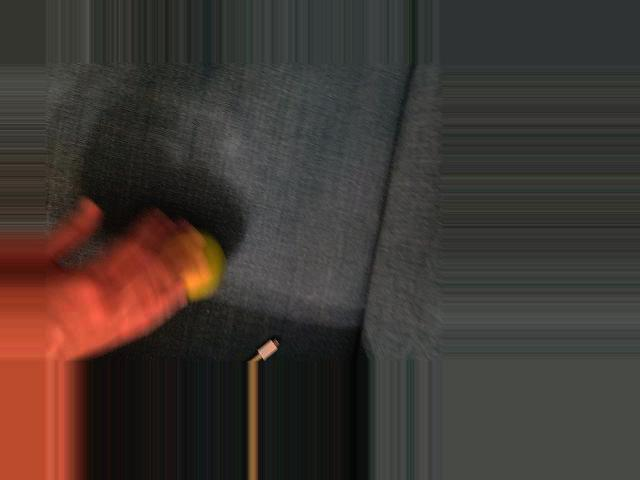apple: (125, 219, 248, 313)
